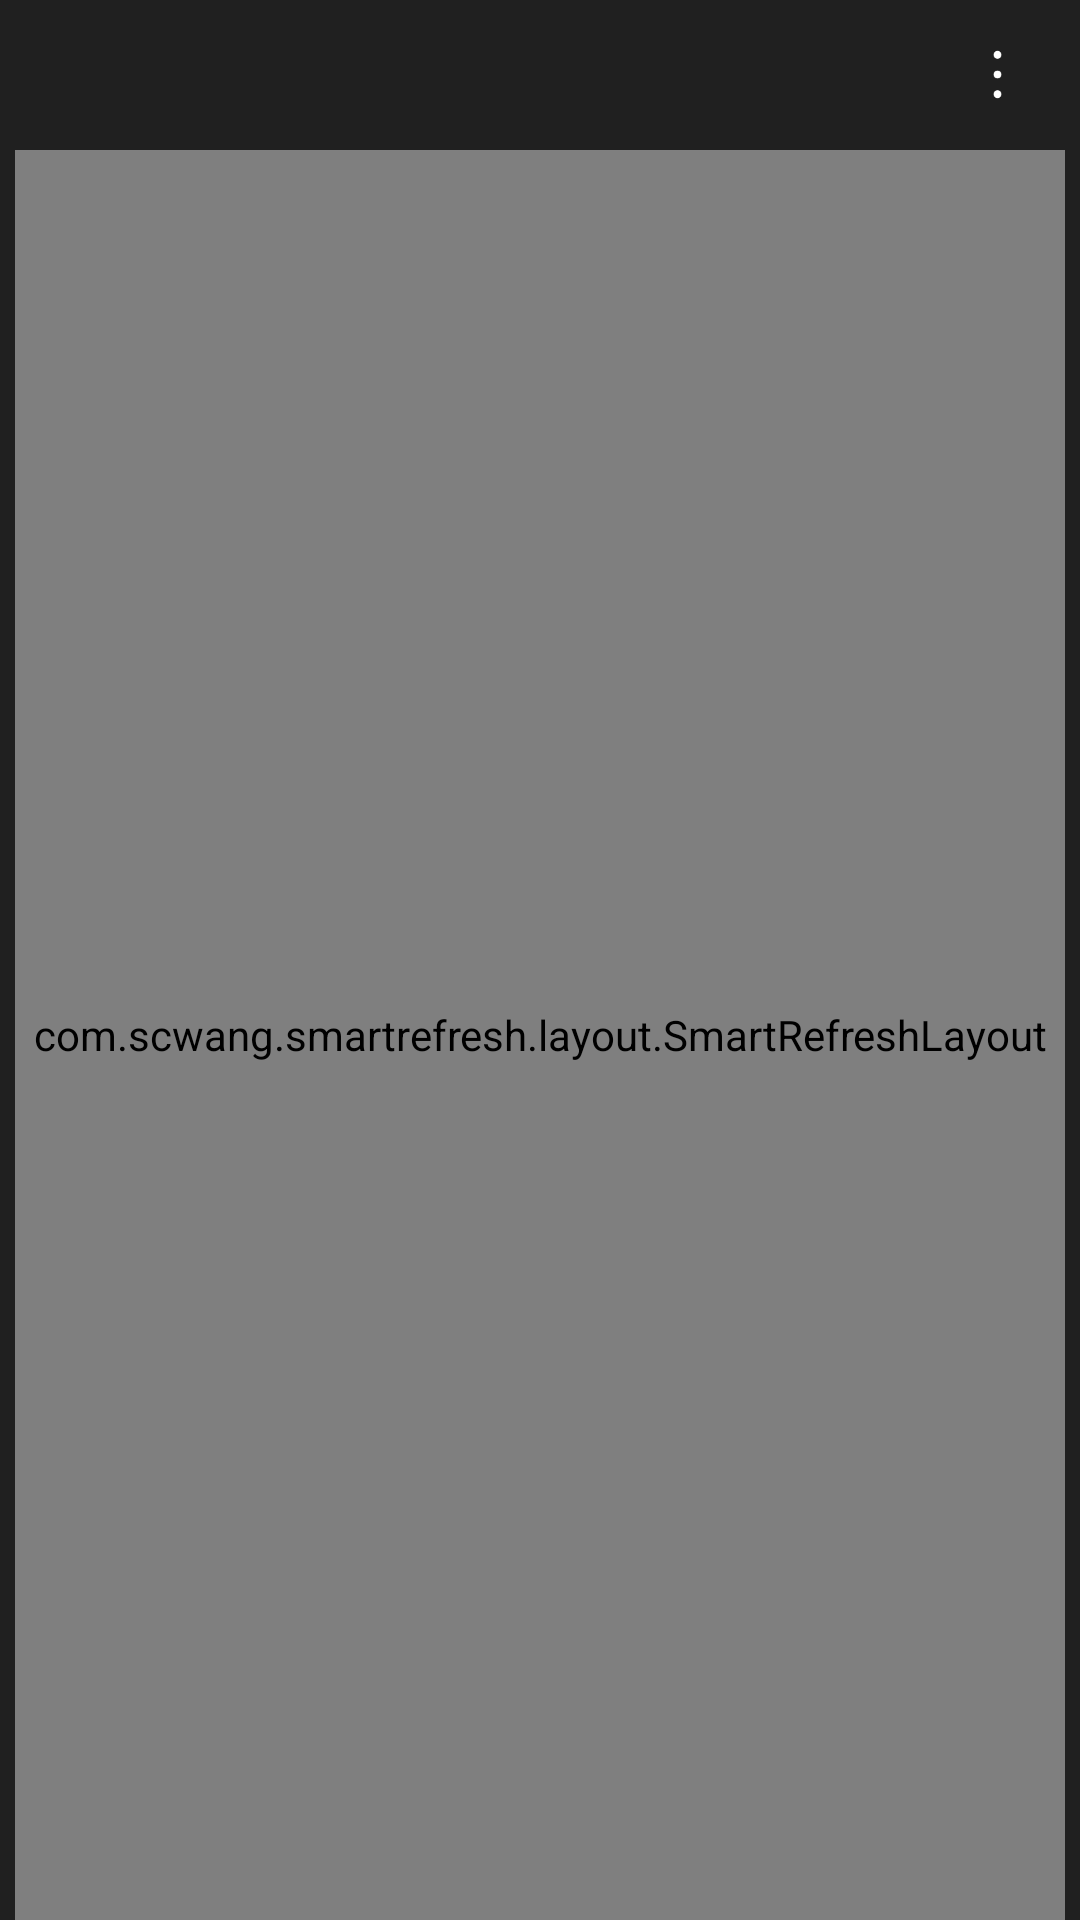

Icon click points for this 1080x1920 phone screenshot, format [x,y]:
more: [997,74]
